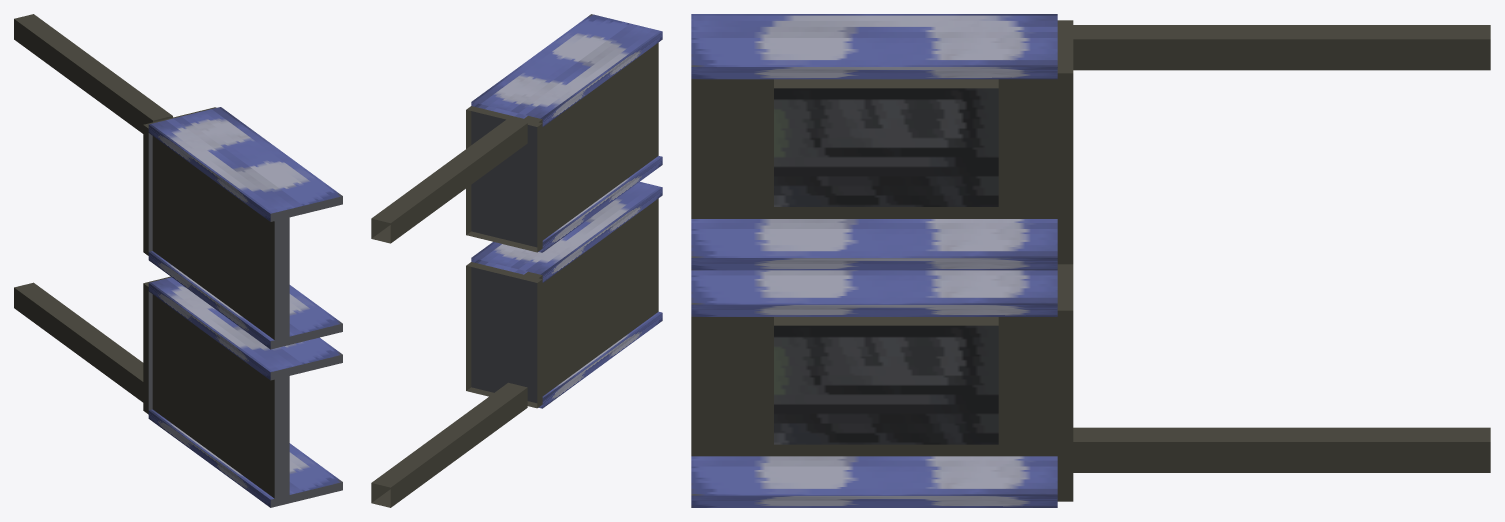
File: pz_native_street_decoration_01_38.obj
The picture shows the model from 3 angles, left to right: view 1: azimuth 30°, elevation 25°; view 2: azimuth 150°, elevation 25°; view 3: azimuth 270°, elevation 25°; orthographic projection. The views are drawn at different scales.
Parts seen in each view (by area): view 1: pz_native_street_decoration_01_38; view 2: pz_native_street_decoration_01_38; view 3: pz_native_street_decoration_01_38.
Part boxes in pixels (x1,y1,x2,y2): pz_native_street_decoration_01_38: [14, 14, 342, 507]; pz_native_street_decoration_01_38: [371, 14, 662, 507]; pz_native_street_decoration_01_38: [691, 14, 1490, 507].
Bounding box in the file's own units: 0.2721 × 1.06 × 1.73.
1 material, 1 textured.
